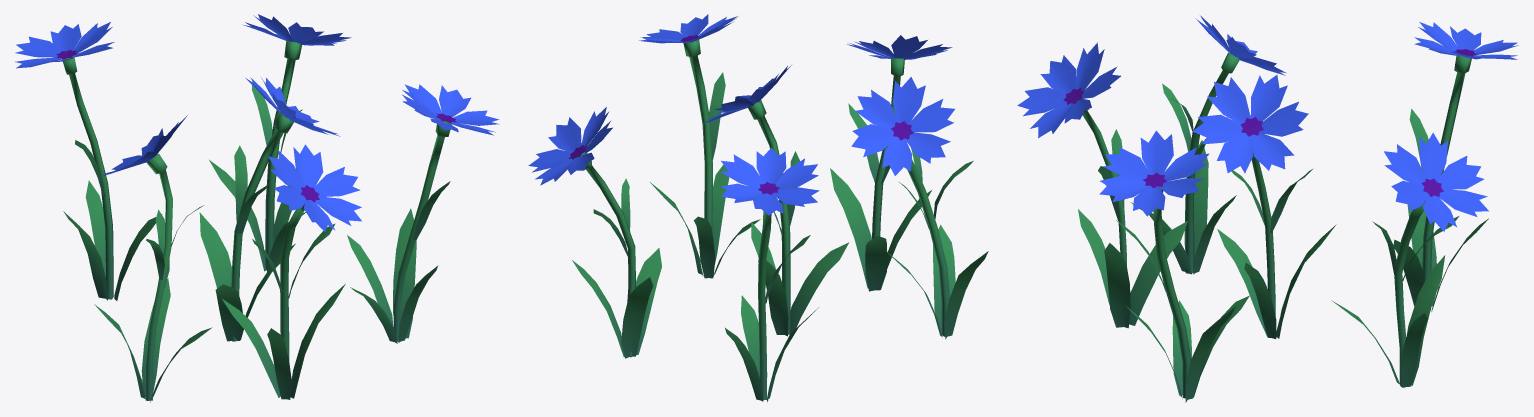
File: Cornflower Flower Patch.fbx
The picture shows the model from 3 angles, left to right: view 1: azimuth 30°, elevation 25°; view 2: azimuth 150°, elevation 25°; view 3: azimuth 270°, elevation 25°; orthographic projection. The views are drawn at different scales.
Parts seen in each view (by area): view 1: Cornflowers; view 2: Cornflowers; view 3: Cornflowers.
Boxes of the visible parts, x1=… form: Cornflowers: x1=15, y1=14, x2=499, y2=402; Cornflowers: x1=528, y1=14, x2=988, y2=402; Cornflowers: x1=1017, y1=15, x2=1518, y2=402.
Bounding box in the file's own units: 0.3213 × 0.2126 × 0.355.
